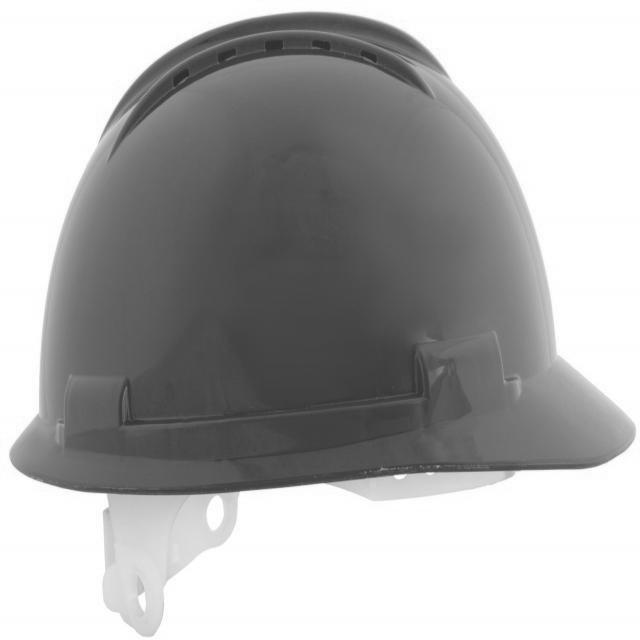safety_helmet: (9, 12, 637, 503)
